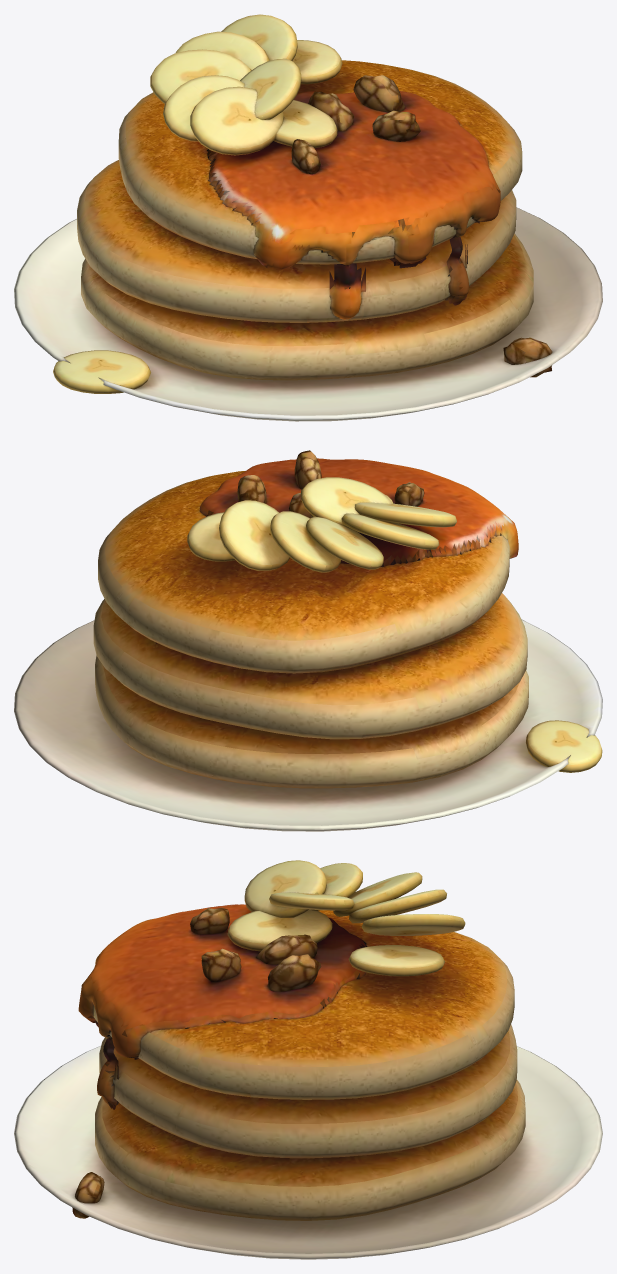
File: pancake--banana-slice.glb
The picture shows the model from 3 angles, top to bottom: view 1: azimuth 30°, elevation 25°; view 2: azimuth 150°, elevation 25°; view 3: azimuth 270°, elevation 25°; orthographic projection.
Parts seen in each view (by area): view 1: pancake_banana-slice; view 2: pancake_banana-slice; view 3: pancake_banana-slice.
Boxes of the visible parts, bbox=[...] form: pancake_banana-slice: bbox=[14, 14, 602, 421]; pancake_banana-slice: bbox=[14, 450, 602, 831]; pancake_banana-slice: bbox=[14, 860, 602, 1259].
Size of the model in its own units: 1.24 by 0.5832 by 1.21.
1 material, 1 textured.
